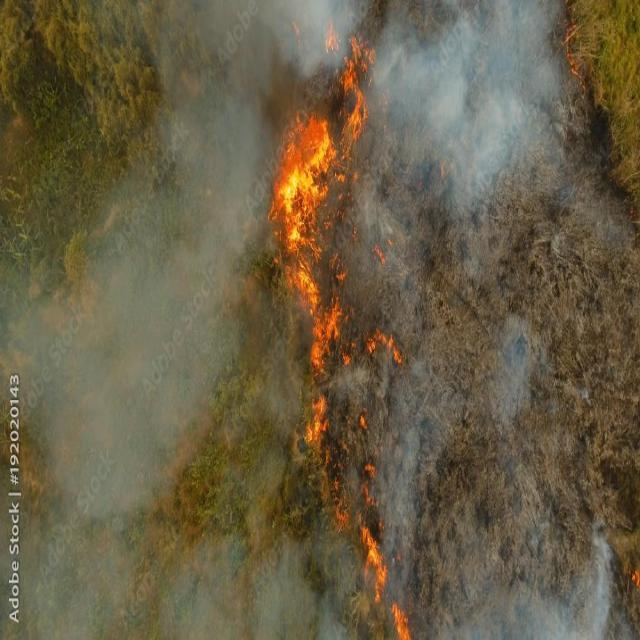Fire: (298, 269, 405, 640), (376, 14, 564, 193), (185, 0, 268, 359), (153, 0, 318, 92), (274, 110, 334, 252), (320, 150, 388, 256), (360, 240, 430, 333), (338, 38, 379, 152), (564, 5, 598, 109), (323, 22, 340, 64), (620, 562, 640, 596)
Smoke: (0, 94, 203, 513), (396, 349, 616, 640), (21, 452, 284, 640)
